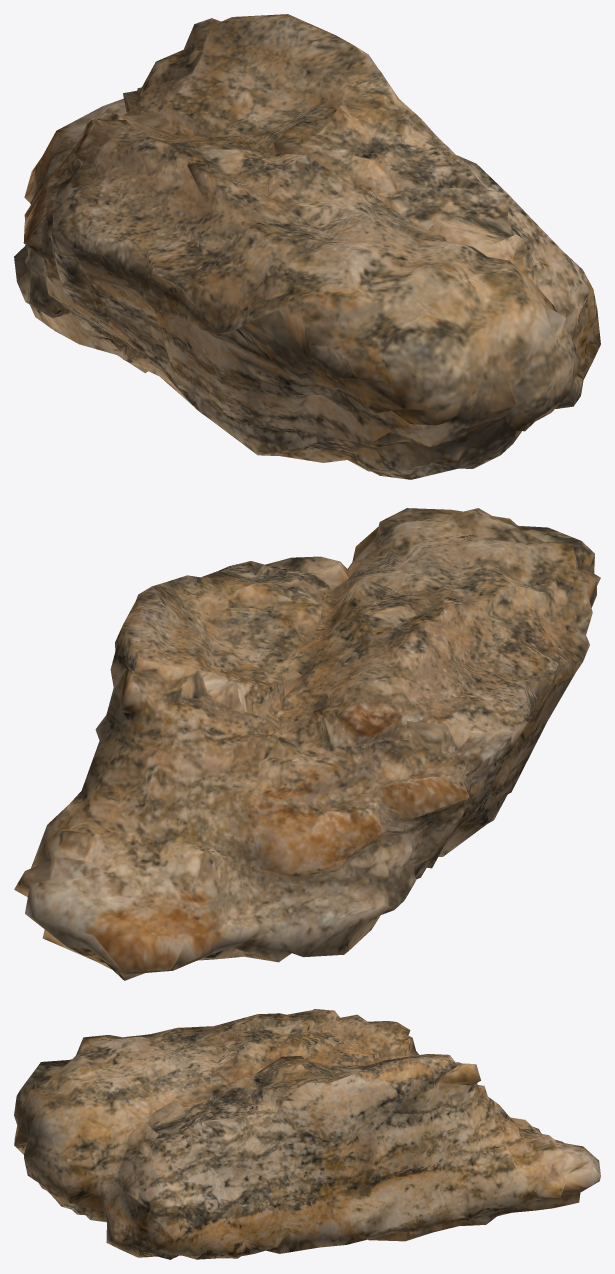
The model's file is nama_rock_b.glb.
The picture shows the model from 3 angles, top to bottom: view 1: azimuth 30°, elevation 25°; view 2: azimuth 150°, elevation 25°; view 3: azimuth 270°, elevation 25°; orthographic projection. The views are drawn at different scales.
Parts seen in each view (by area): view 1: nama_rock_b; view 2: nama_rock_b; view 3: nama_rock_b.
Boxes of the visible parts, <box> form: nama_rock_b: <box>14,14,600,479</box>; nama_rock_b: <box>14,508,600,980</box>; nama_rock_b: <box>14,1009,600,1259</box>.
Bounding box in the file's own units: 1.57 × 0.9653 × 2.68.
Materials: 1 (1 with a texture image).
